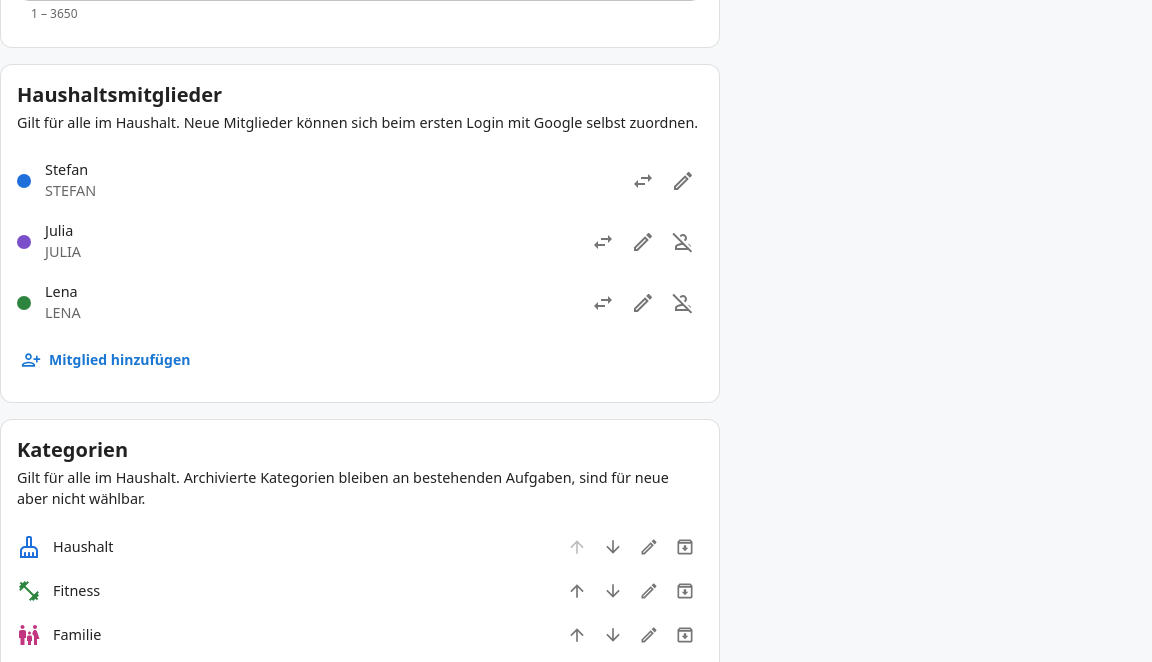
Test: member deactivation › deactivates with reassignment and shows a summary
(page scrolled)
Click the button named "Lena deaktivieren" at (683, 303), box [663, 283, 703, 323]
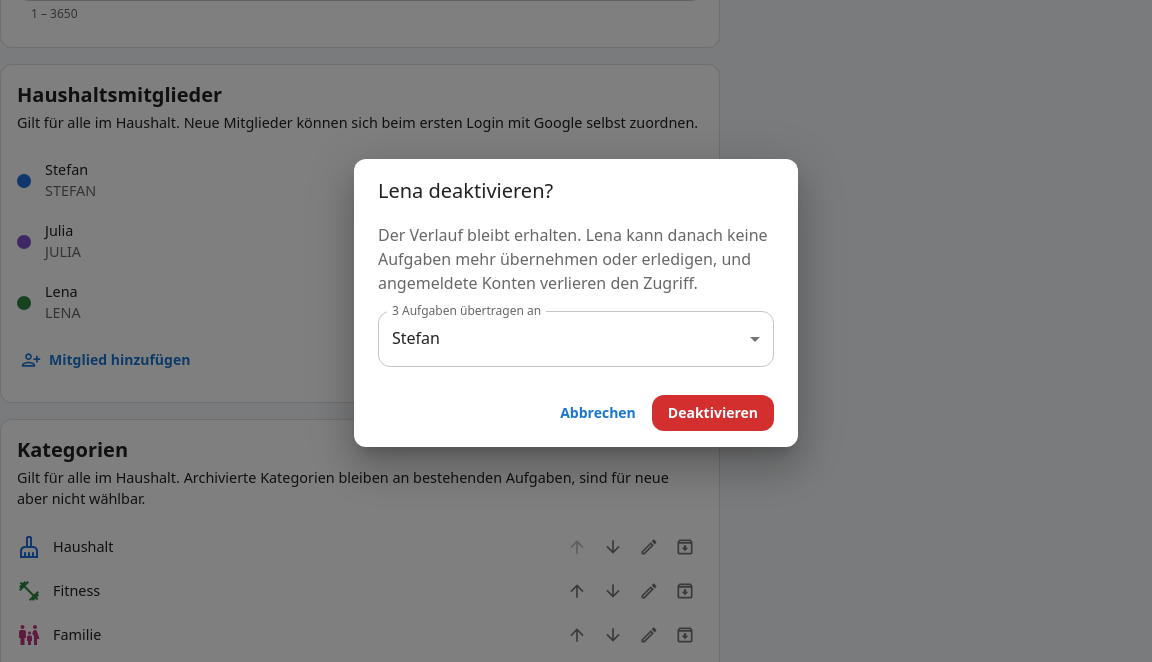
Now the dropdown named "3 Aufgaben übertragen an" reads "Stefan"
Click the dropdown named "3 Aufgaben übertragen an" at (416, 338), box [392, 327, 440, 349]
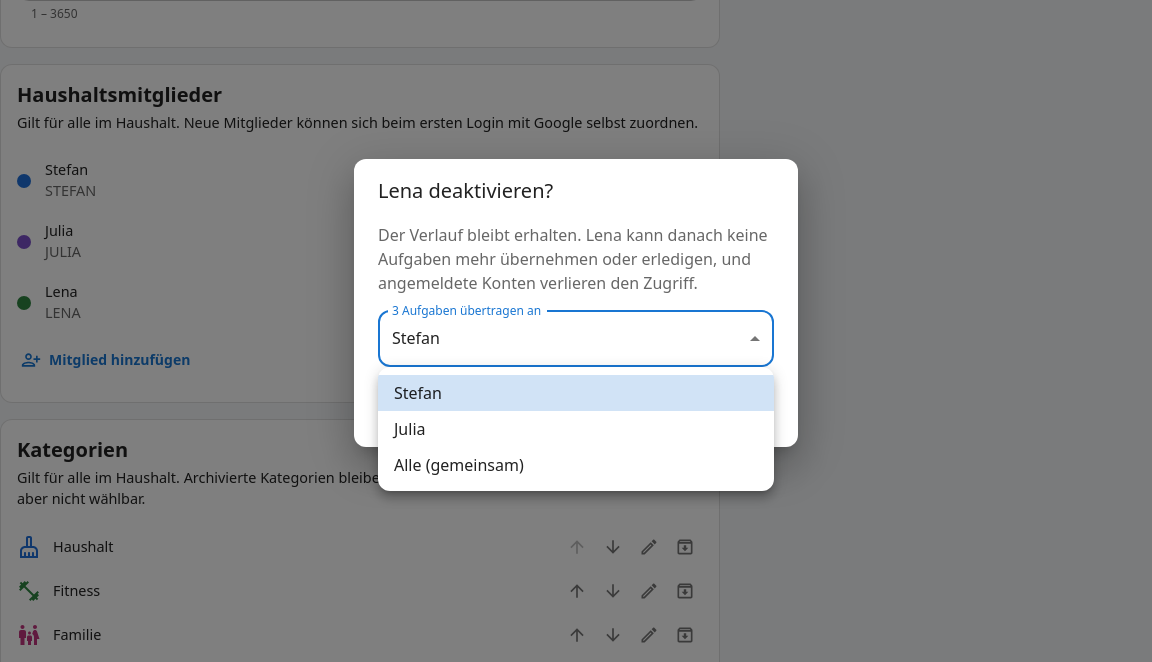
Click the option "Julia" at (410, 429), box [394, 418, 426, 440]
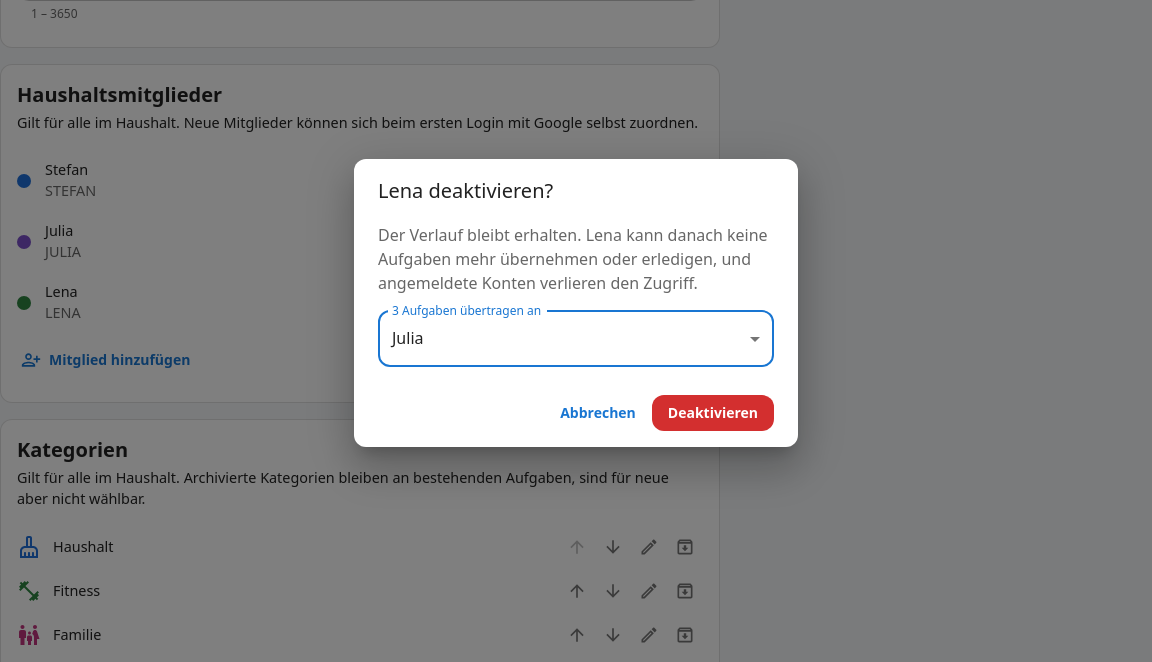
Click the button "Deaktivieren" at (713, 413), box [652, 395, 774, 431]
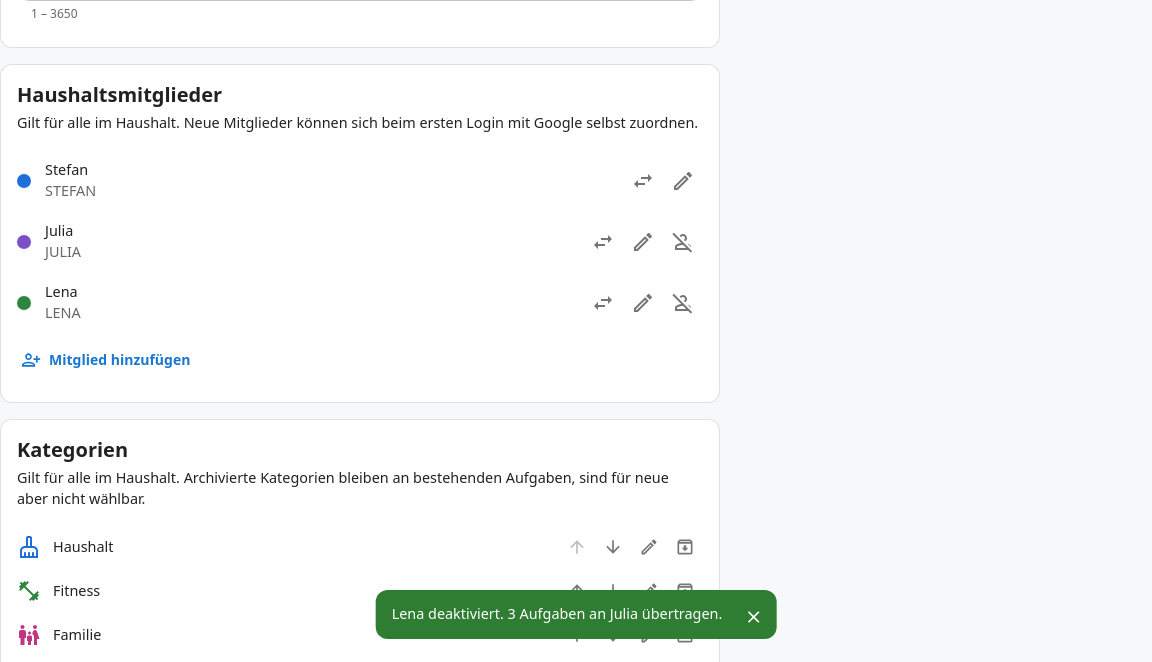
Now the text "Lena deaktiviert. 3 Aufgaben an Julia übertragen." is shown, box [392, 604, 722, 623]
